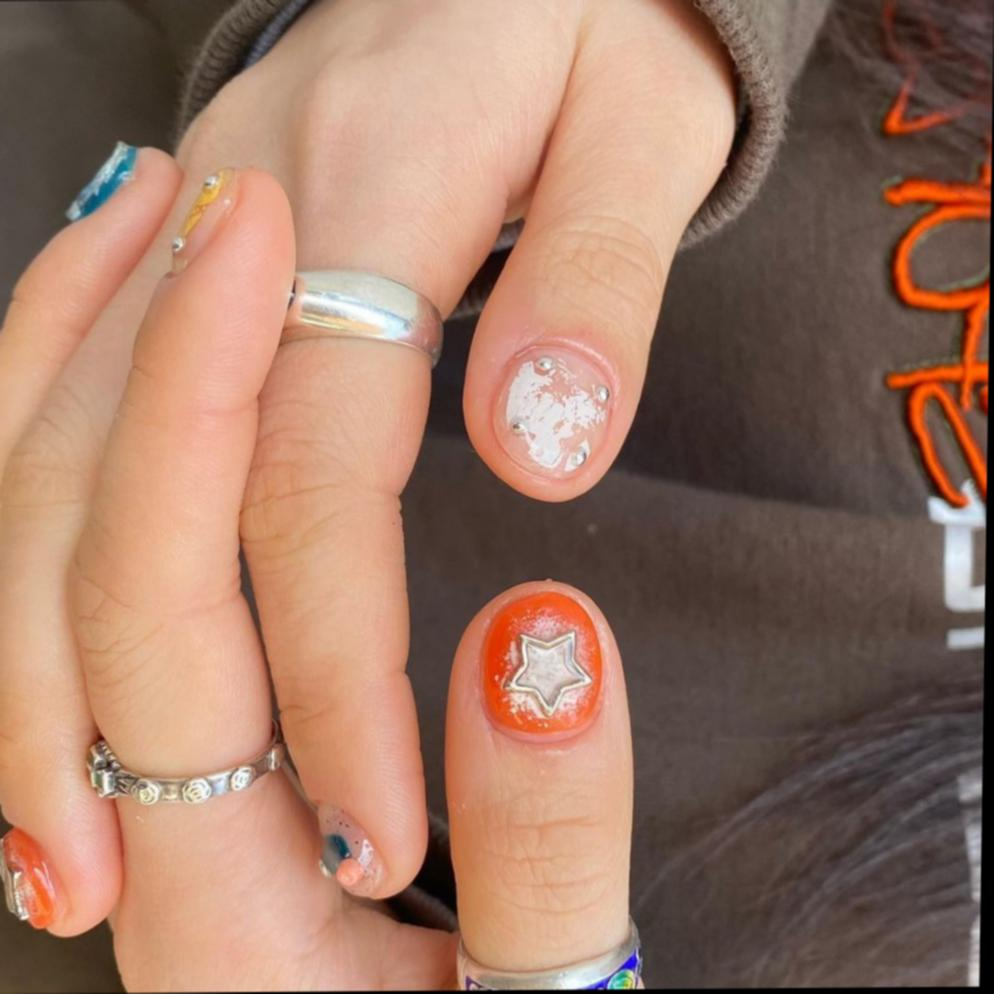nail: (484, 588, 604, 736), (283, 267, 447, 370), (493, 345, 612, 482), (0, 826, 64, 931), (170, 167, 236, 268), (65, 140, 140, 222), (316, 803, 379, 889)
